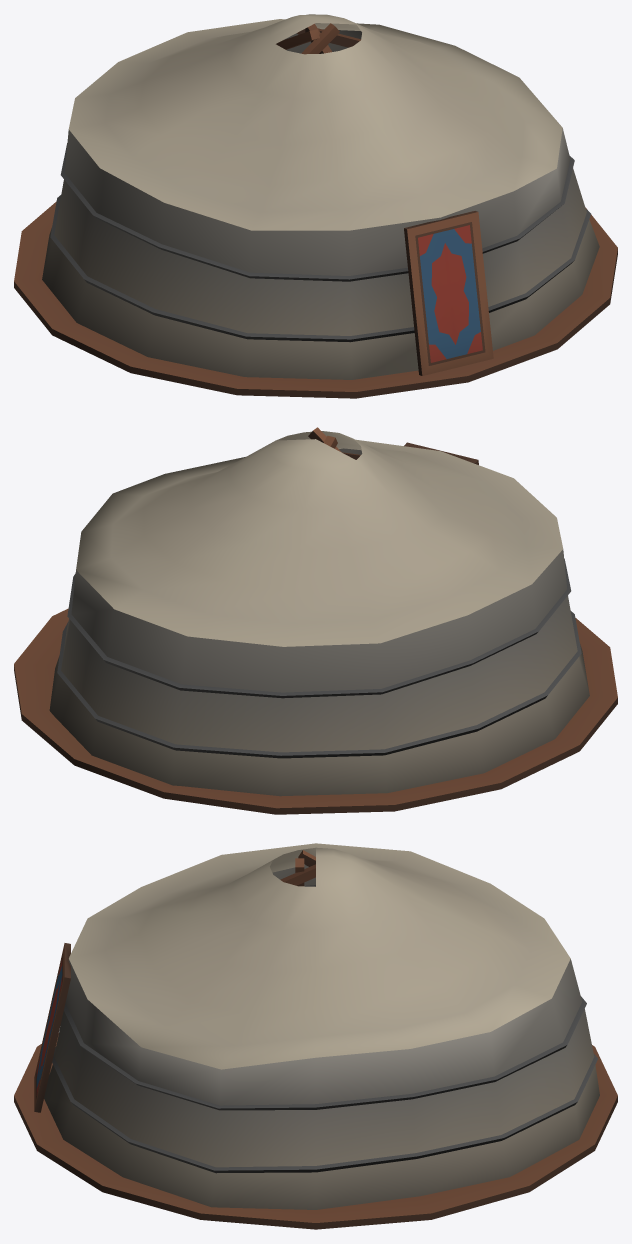
The model's file is Tents_Yurt_alt03.glb.
The picture shows the model from 3 angles, top to bottom: view 1: azimuth 30°, elevation 25°; view 2: azimuth 150°, elevation 25°; view 3: azimuth 270°, elevation 25°; orthographic projection.
Visible parts, largest first — view 1: base.147; view 2: base.147; view 3: base.147.
Boxes of the visible parts, x1=… form: base.147: x1=14, y1=14, x2=617, y2=398; base.147: x1=14, y1=427, x2=617, y2=814; base.147: x1=14, y1=843, x2=617, y2=1229.
Bounding box in the file's own units: 14.2 × 6.43 × 14.2.
